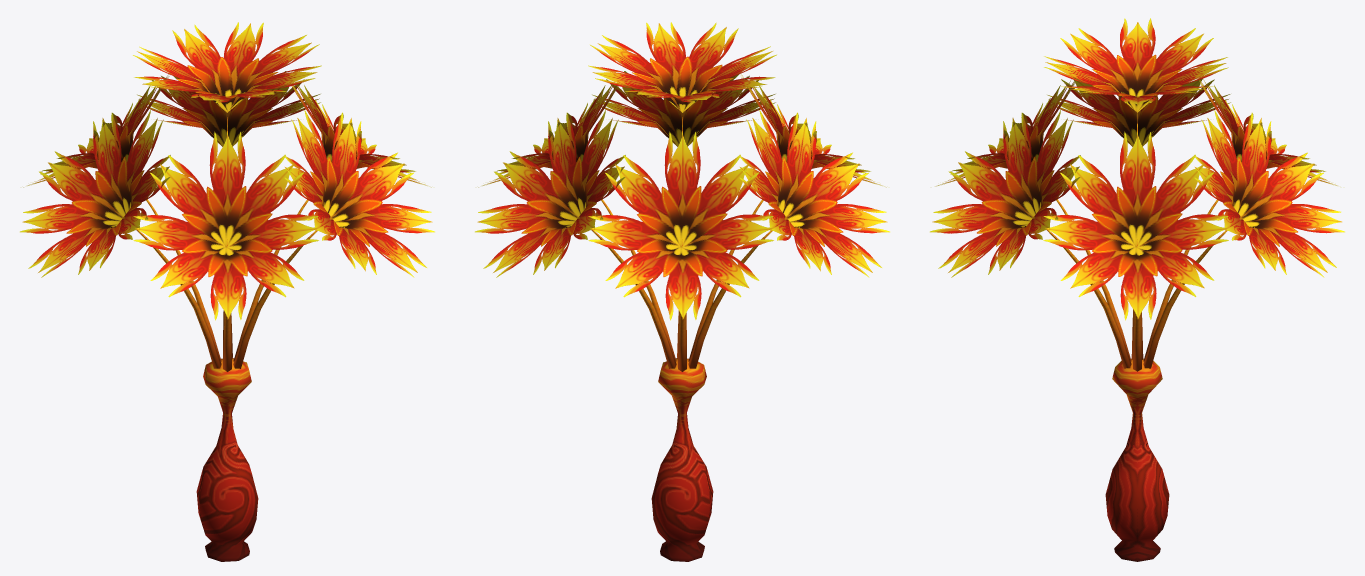
The model's file is Red_Tree_06a.FBX.
3 views of the same model, side by side, from view 1: azimuth 30°, elevation 25°; view 2: azimuth 150°, elevation 25°; view 3: azimuth 270°, elevation 25° (orthographic).
Visible parts, largest first — view 1: Red_Tree_06a; view 2: Red_Tree_06a; view 3: Red_Tree_06a.
Boxes of the visible parts, left/top/right/bottom form: Red_Tree_06a: left=20, top=22, right=434, bottom=561; Red_Tree_06a: left=475, top=22, right=889, bottom=561; Red_Tree_06a: left=930, top=18, right=1344, bottom=561.
Bounding box in the file's own units: 258 × 305 × 239.
